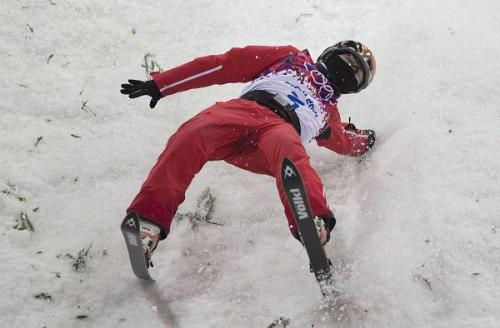down: (115, 37, 379, 271)
